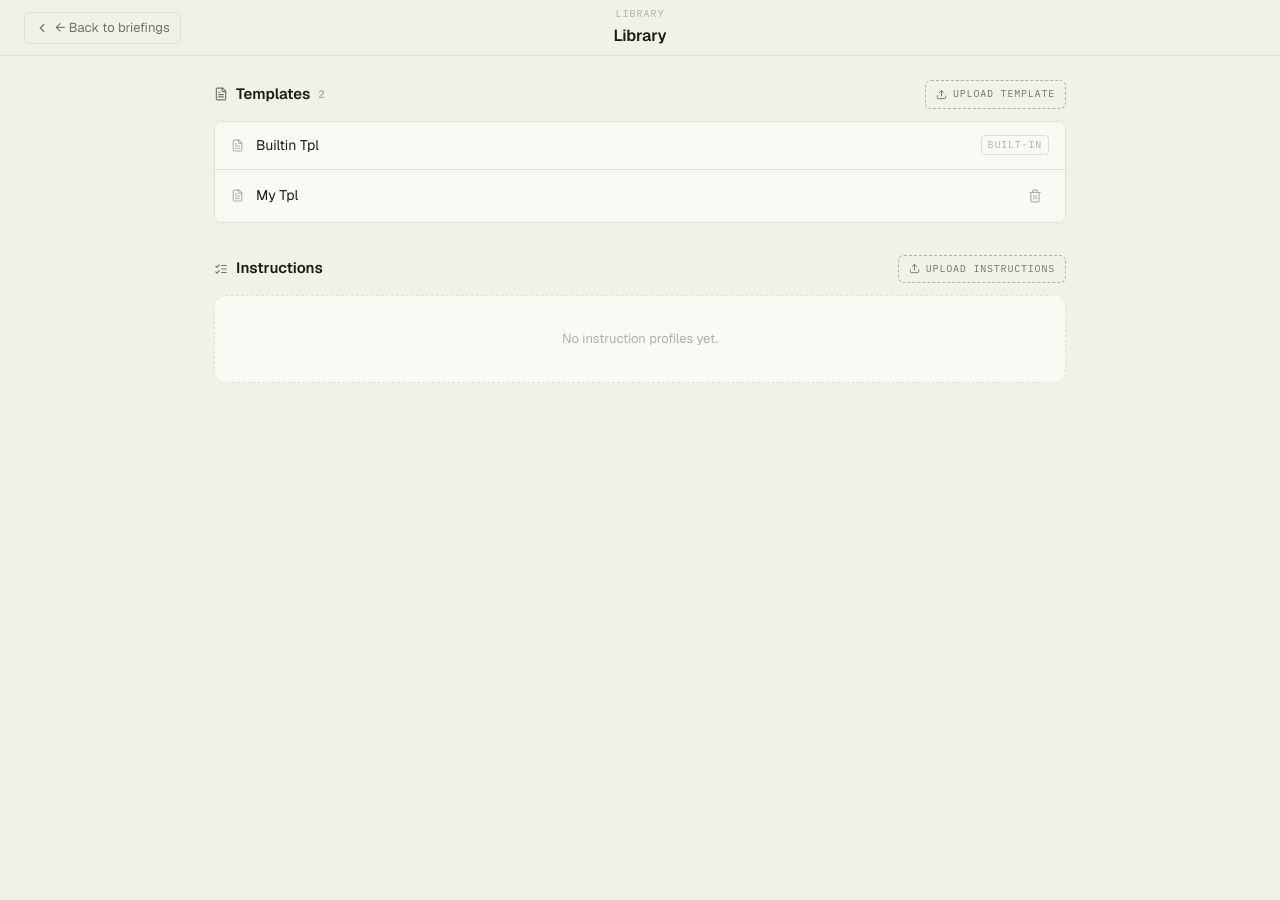
it: MbCabinetView › opens the delete confirm for a user template
What coordinates should you click on to do the following:
click the button with test id "mb-cabinet-delete-template-t2"
I would click on:
 (1035, 196)
Its box is [1021,182,1049,210].
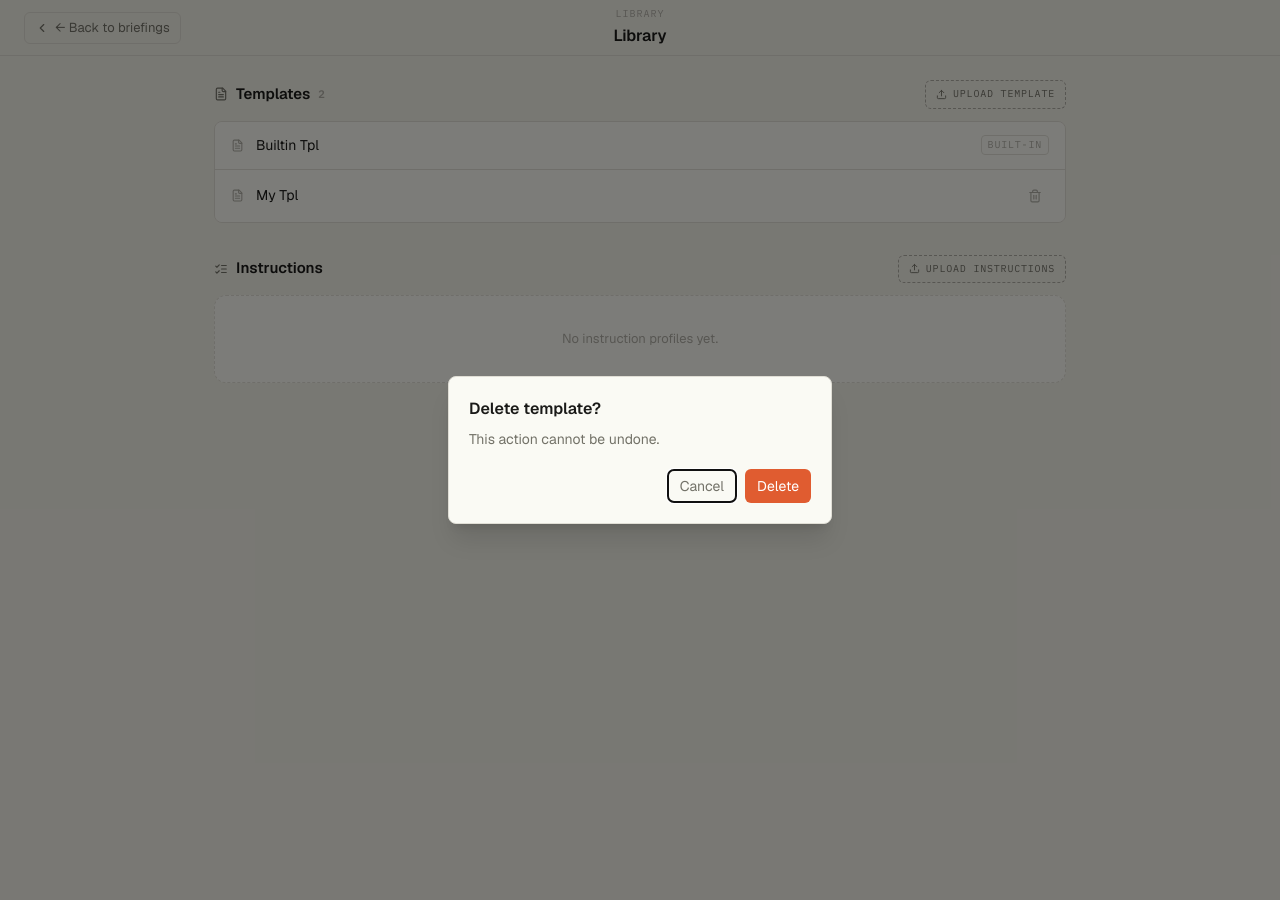
Result: the dialog is shown
